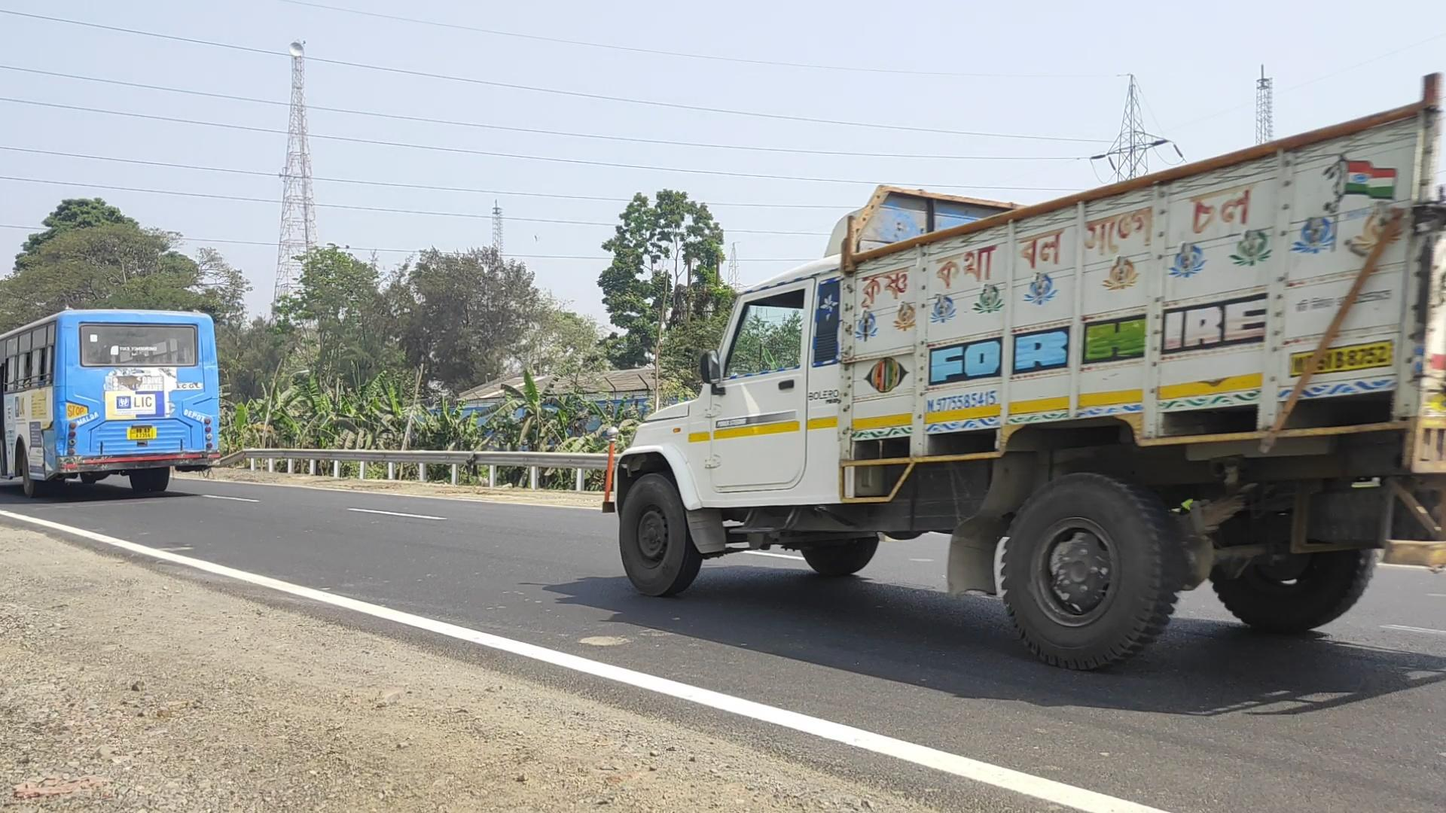Bus: (1, 306, 219, 499)
van: (602, 72, 1446, 671)
